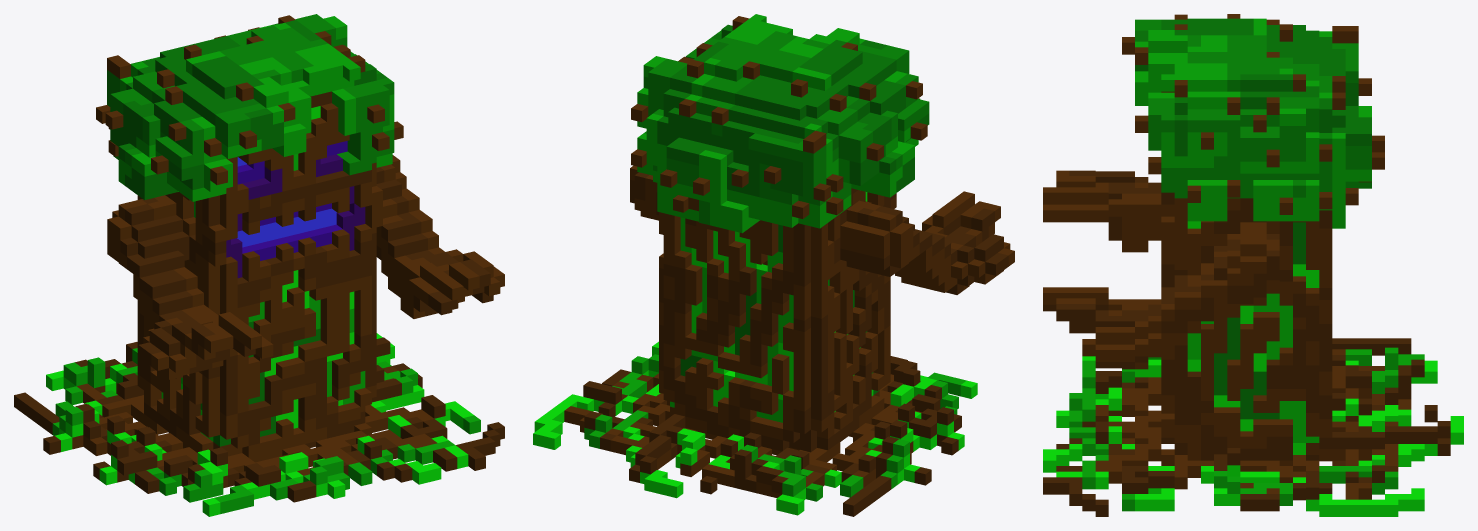
Rendered from Aliso_Juan_Pablo_Yalta_Badillo_fase_4.obj.
The picture shows the model from 3 angles, left to right: view 1: azimuth 30°, elevation 25°; view 2: azimuth 150°, elevation 25°; view 3: azimuth 270°, elevation 25°; orthographic projection. The views are drawn at different scales.
Parts seen in each view (by area): view 1: Aliso_Juan_Pablo_Yalta_Badillo_fase_4; view 2: Aliso_Juan_Pablo_Yalta_Badillo_fase_4; view 3: Aliso_Juan_Pablo_Yalta_Badillo_fase_4.
Part boxes in pixels (x1,y1,x2,y2): Aliso_Juan_Pablo_Yalta_Badillo_fase_4: [14, 14, 504, 516]; Aliso_Juan_Pablo_Yalta_Badillo_fase_4: [533, 14, 1014, 516]; Aliso_Juan_Pablo_Yalta_Badillo_fase_4: [1043, 14, 1463, 516].
Size of the model in its own units: 32 by 32 by 32.
